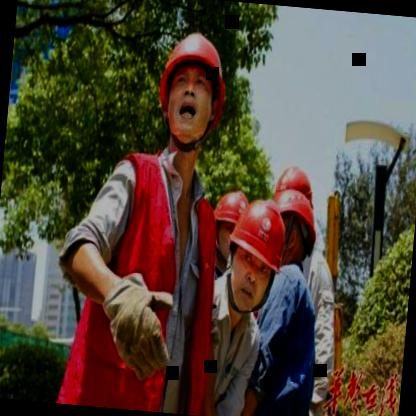helmet: (147, 14, 237, 162), (226, 193, 282, 301), (270, 188, 321, 272), (214, 189, 247, 257)
